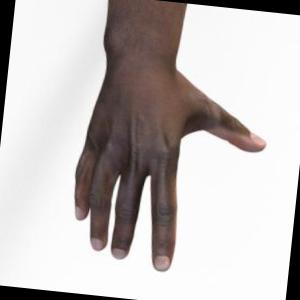paper: (75, 0, 265, 271)
